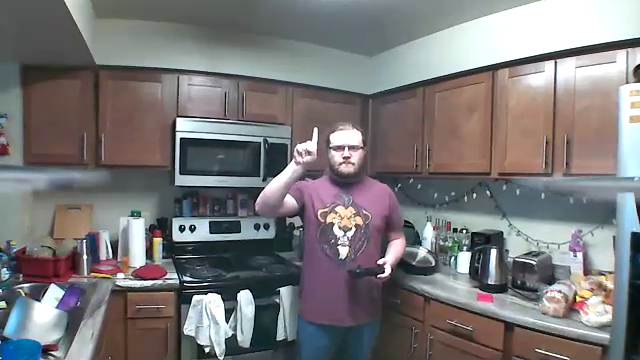up: (292, 124, 324, 168)
